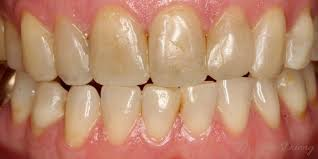normal: (19, 11, 55, 80), (53, 18, 91, 82), (101, 86, 140, 147), (142, 85, 180, 141), (66, 87, 98, 150), (218, 80, 254, 133), (287, 8, 311, 68), (7, 74, 32, 126), (253, 82, 281, 126), (3, 20, 22, 70), (307, 68, 318, 101)
yellow: (91, 9, 151, 84), (148, 7, 204, 84), (206, 8, 250, 78), (251, 8, 285, 78), (181, 80, 217, 141), (34, 81, 67, 138), (278, 72, 308, 118)
